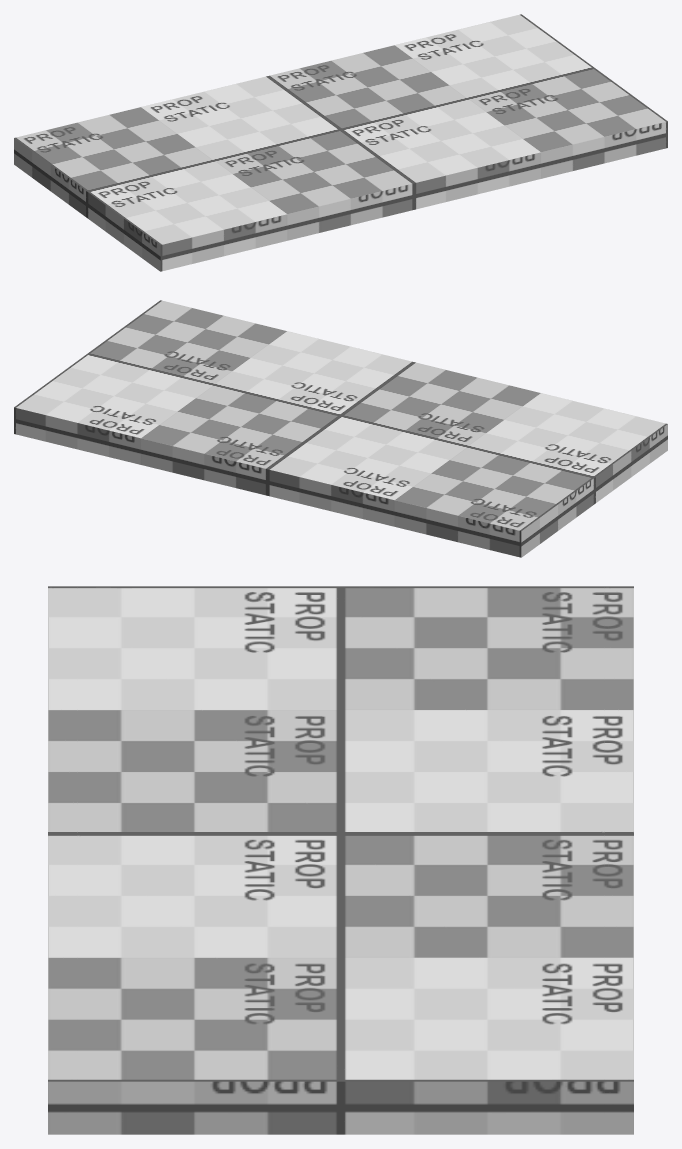
The model's file is JMB_CeilingLights.fbx.
3 renders of one model, top to bottom at view 1: azimuth 30°, elevation 25°; view 2: azimuth 150°, elevation 25°; view 3: azimuth 270°, elevation 25°, orthographic. The views are drawn at different scales.
Parts seen in each view (by area): view 1: Ceiling_Light; view 2: Ceiling_Light; view 3: Ceiling_Light.
Boxes of the visible parts, x1,y1,x2,y2 form: Ceiling_Light: [14, 14, 667, 271]; Ceiling_Light: [14, 300, 667, 557]; Ceiling_Light: [48, 586, 633, 1134].
Bounding box in the file's own units: 200 × 10 × 100.
